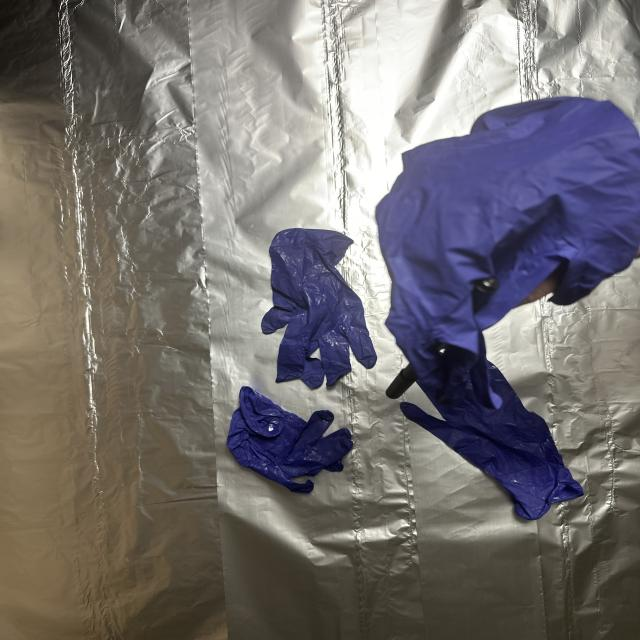glove_not_fitted: (370, 92, 640, 356)
